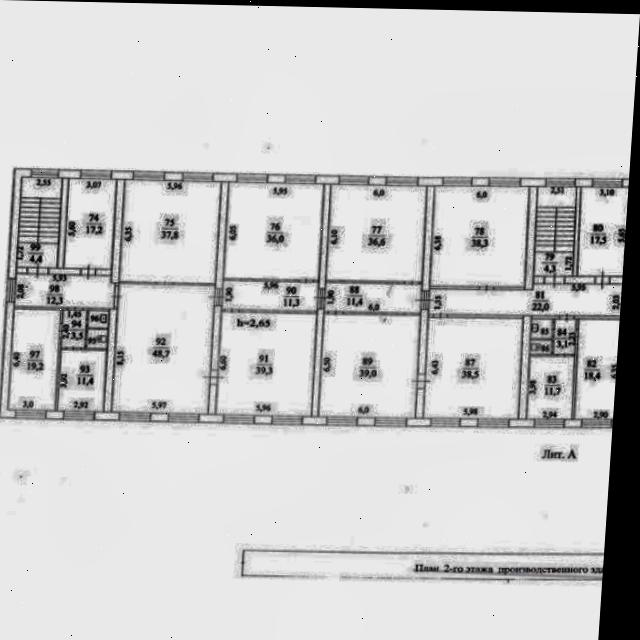room: (110, 282, 215, 417), (118, 176, 221, 287), (320, 311, 420, 422), (422, 313, 523, 422), (429, 182, 530, 291), (217, 309, 317, 419), (224, 178, 324, 285), (326, 180, 426, 284), (429, 283, 622, 317), (8, 307, 61, 412), (63, 176, 117, 271), (572, 318, 620, 421), (576, 184, 628, 279), (16, 175, 63, 270), (534, 186, 576, 277), (15, 274, 115, 309), (526, 355, 575, 421), (58, 348, 107, 414), (324, 283, 422, 313), (222, 281, 318, 311), (61, 310, 86, 349), (553, 319, 576, 355), (87, 329, 108, 349), (531, 319, 553, 338), (88, 312, 109, 328), (530, 340, 552, 354)
